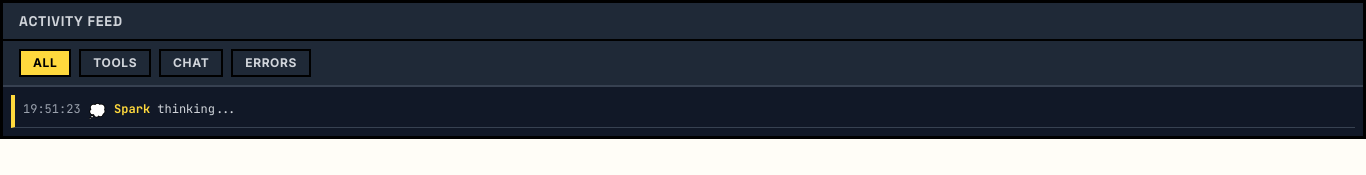
Scenario: ActivityFeed › shows filter-specific empty message when filter has no matches
Click the button with test id "filter-errors": (271, 63) x1=231 y1=49 x2=311 y2=77
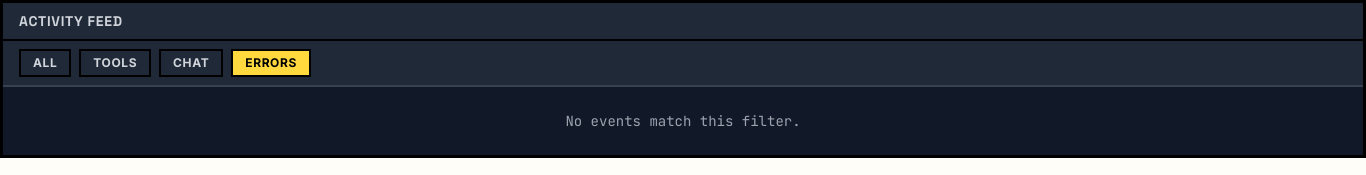
expect the text "No events match this filter." is shown: met, box x1=565 y1=112 x2=801 y2=130
